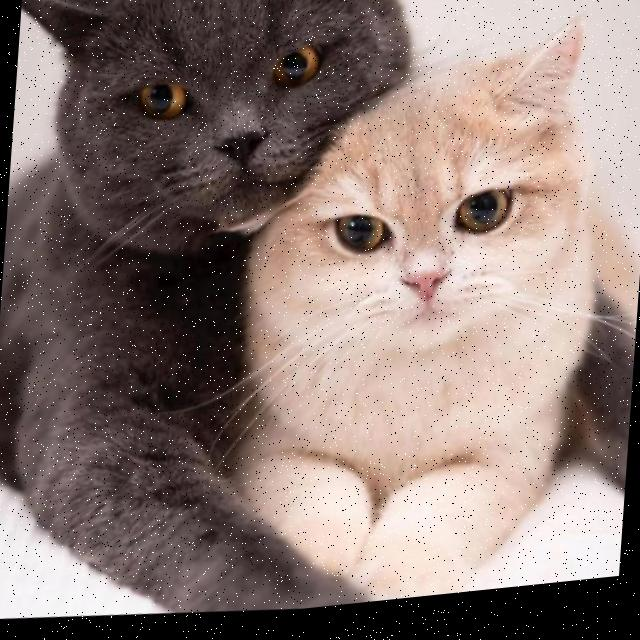Cats: (233, 3, 640, 464), (5, 0, 418, 259)
